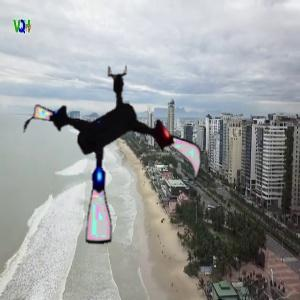drone: (19, 63, 208, 252)
